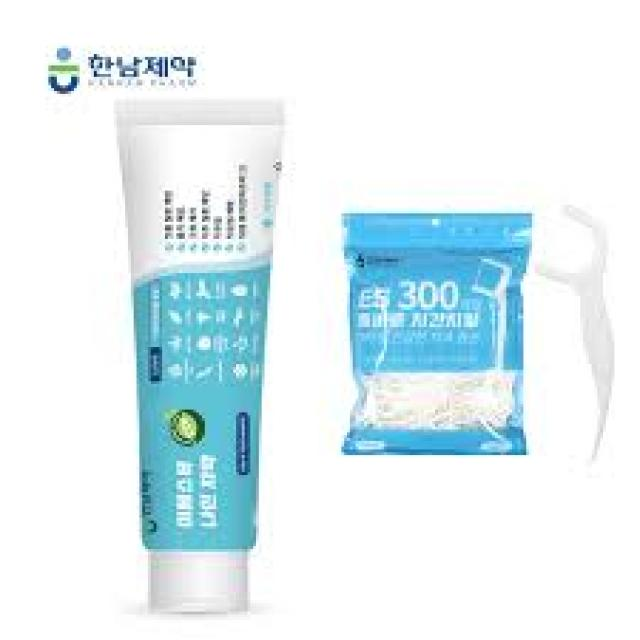toothpaste: (96, 94, 286, 620)
